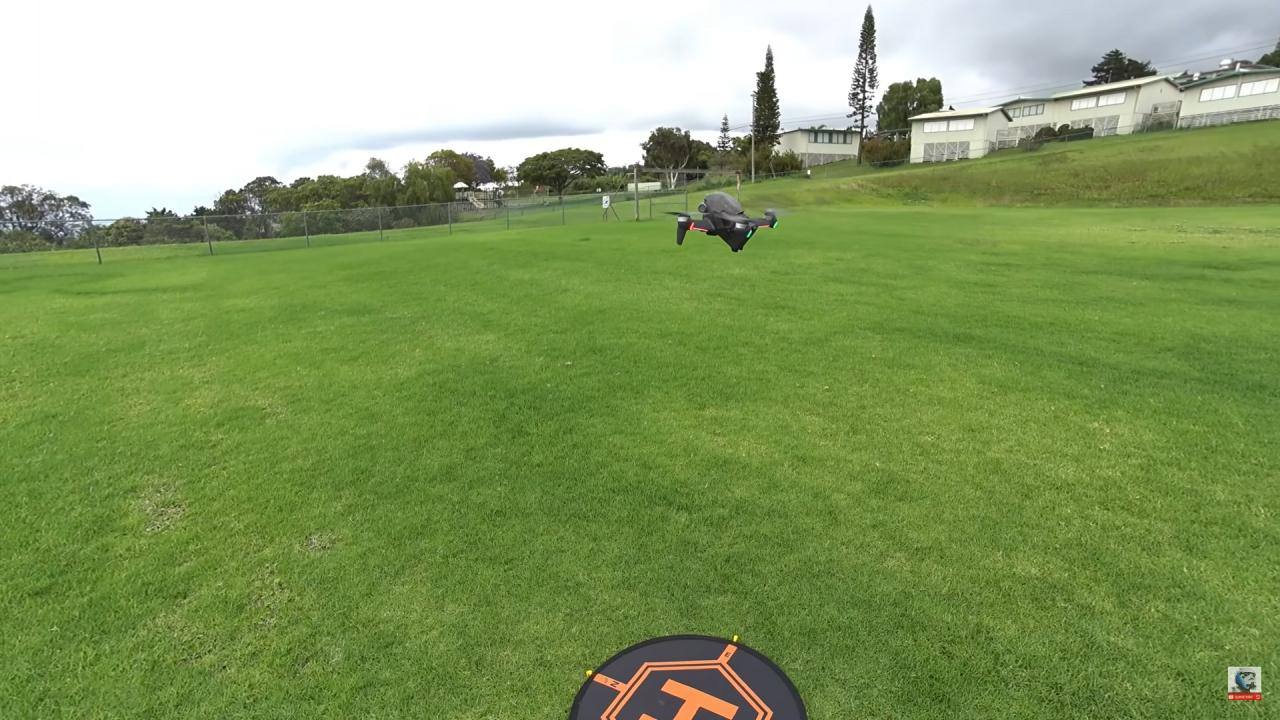Drone: (650, 178, 797, 268)
